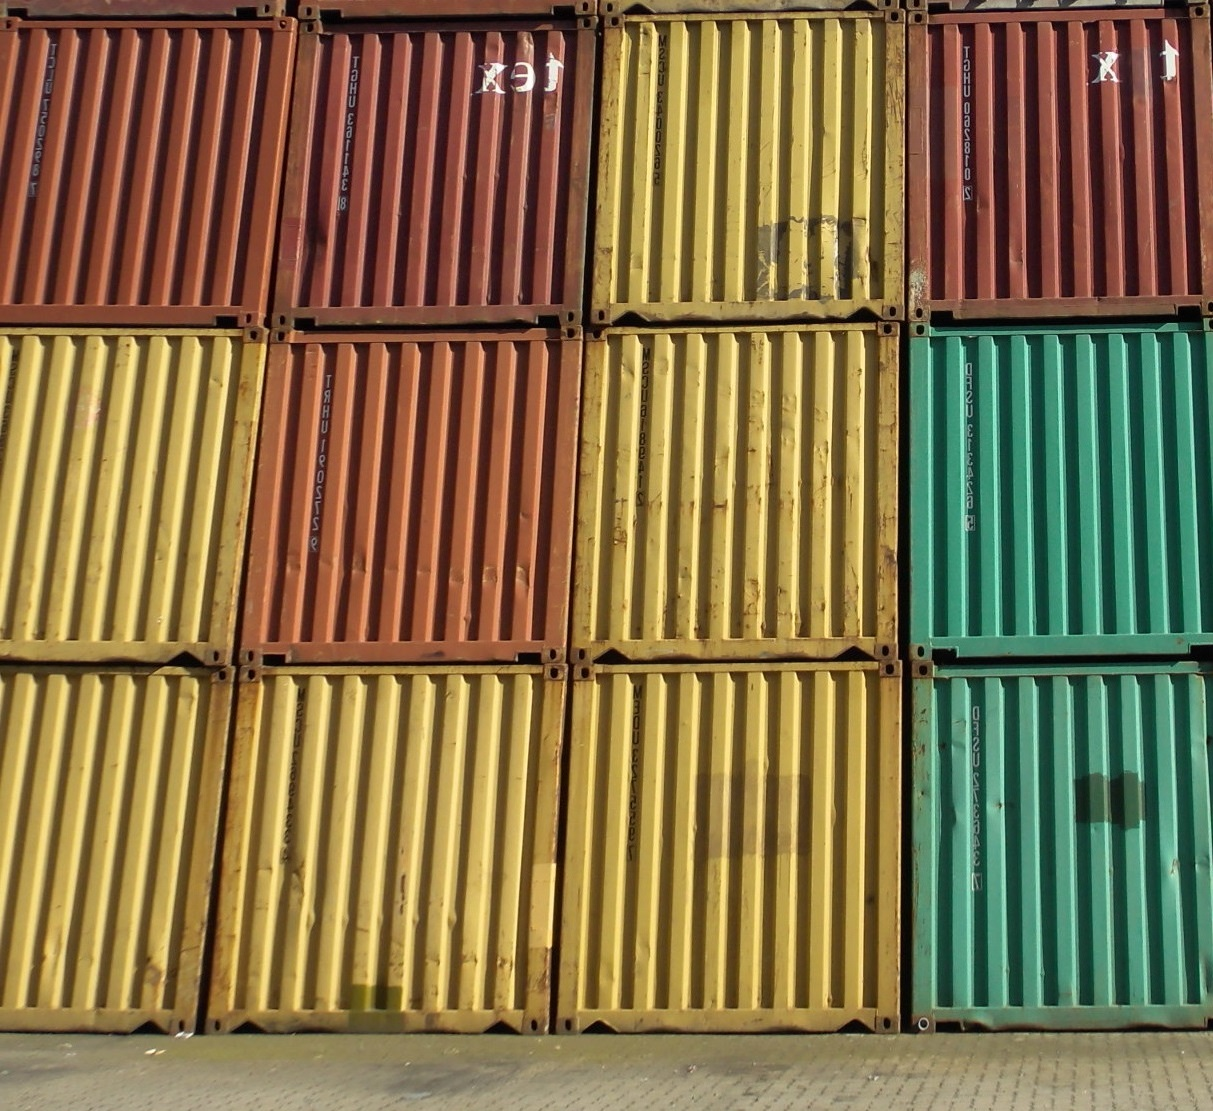container_no_door: (214, 670, 568, 1023), (566, 667, 898, 1035), (240, 331, 570, 667), (910, 665, 1213, 1030), (573, 325, 902, 660), (903, 322, 1213, 660), (898, 13, 1213, 325), (589, 7, 903, 318), (290, 14, 590, 313), (1, 325, 251, 667), (10, 14, 287, 319), (1, 663, 209, 1027)
